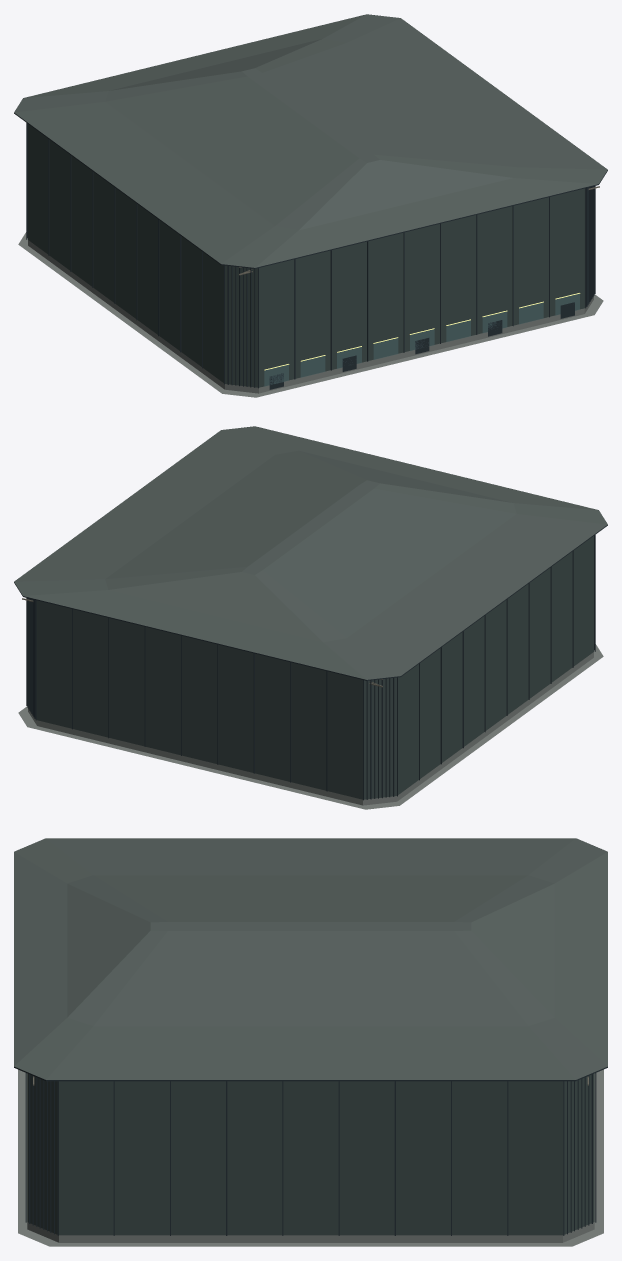
Rendered from shell.glb.
3 views of the same model, one above another, from view 1: azimuth 30°, elevation 25°; view 2: azimuth 150°, elevation 25°; view 3: azimuth 270°, elevation 25° (orthographic). The views are drawn at different scales.
Parts seen in each view (by area): view 1: shell_roof_canopy_hip_1, shell_bowl_mass_cladding, shell_bowl_mass_facade_panels, shell_bowl_mass_suite_glass_lobby, shell_bowl_mass_plinth, shell_field_floor_apron, shell_bowl_mass_portal_frames, shell_roof_canopy_fascia; view 2: shell_roof_canopy_hip_1, shell_bowl_mass_cladding, shell_bowl_mass_facade_panels, shell_bowl_mass_plinth, shell_field_floor_apron, shell_roof_canopy_fascia; view 3: shell_roof_canopy_hip_1, shell_bowl_mass_cladding, shell_bowl_mass_facade_panels, shell_field_floor_apron, shell_bowl_mass_plinth, shell_roof_canopy_fascia.
Part boxes in pixels (box(x1,y1,x2,y2)): shell_roof_canopy_hip_1: box(14, 14, 607, 267); shell_bowl_mass_cladding: box(28, 124, 585, 387); shell_bowl_mass_facade_panels: box(26, 123, 595, 388); shell_bowl_mass_suite_glass_lobby: box(264, 293, 579, 386); shell_bowl_mass_plinth: box(28, 240, 593, 393); shell_field_floor_apron: box(18, 232, 603, 397); shell_bowl_mass_portal_frames: box(269, 302, 574, 389); shell_roof_canopy_fascia: box(14, 14, 607, 268); shell_roof_canopy_hip_1: box(14, 426, 607, 679); shell_bowl_mass_cladding: box(36, 536, 593, 799); shell_bowl_mass_facade_panels: box(26, 535, 595, 800); shell_bowl_mass_plinth: box(28, 652, 593, 805); shell_field_floor_apron: box(18, 644, 603, 809); shell_roof_canopy_fascia: box(14, 426, 607, 680); shell_roof_canopy_hip_1: box(14, 838, 607, 1079); shell_bowl_mass_cladding: box(27, 1073, 594, 1235); shell_bowl_mass_facade_panels: box(25, 1073, 596, 1235); shell_field_floor_apron: box(18, 1069, 603, 1246); shell_bowl_mass_plinth: box(27, 1222, 594, 1242); shell_roof_canopy_fascia: box(14, 842, 607, 1081).
Size of the model in its own units: 82.51 by 32.02 by 85.68.
